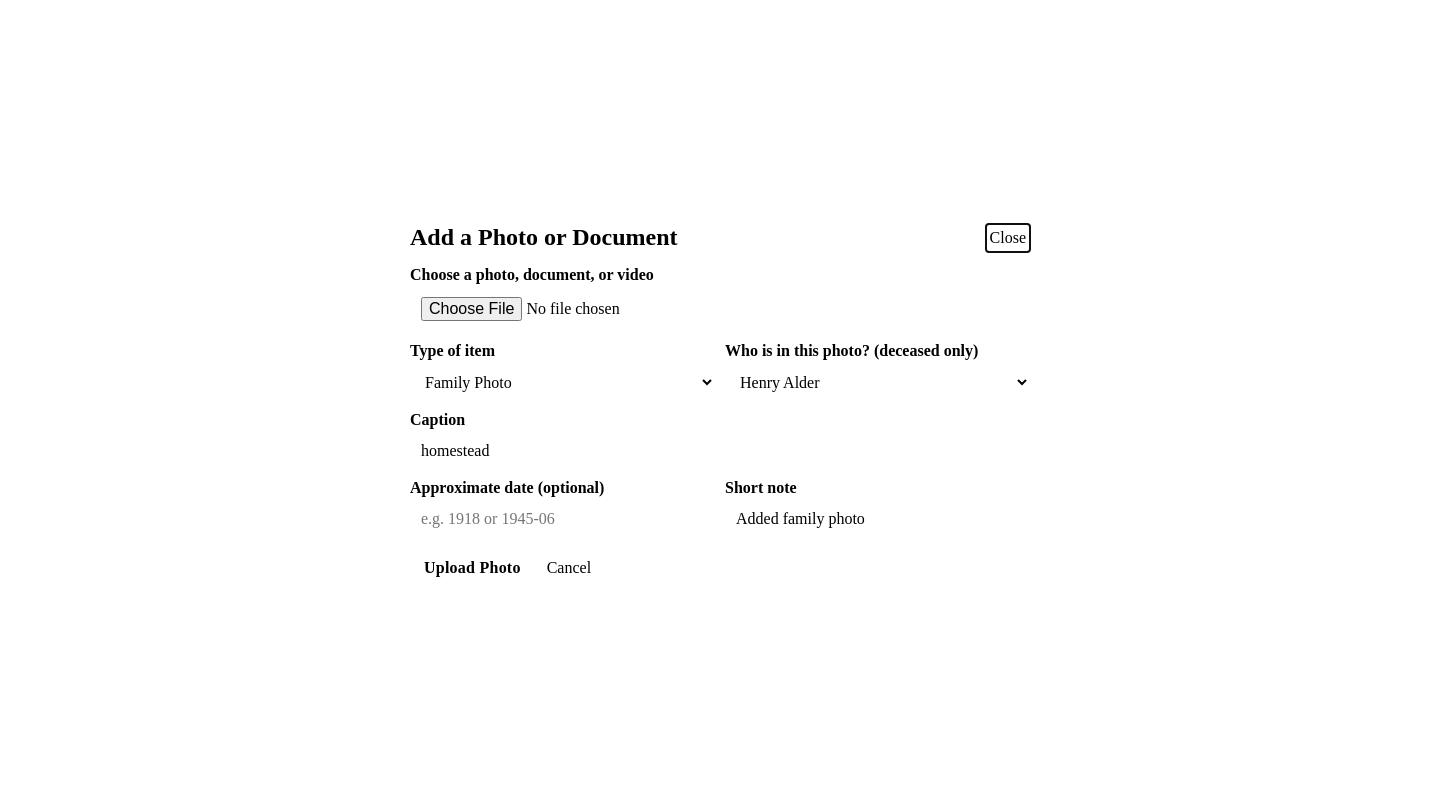
Test case: ExplorerTopBar, MediaUploaderModal, MilestoneStoryCard, TreePage canvas, and clientTelemetry behavioral flows › completes a file upload through MediaUploaderModal and selects/pivots on MilestoneStoryCard
Earlier steps of the test are not shown.
Later steps or results of the test are not shown.
Check: the file field labelled "Choose a photo, document, or video" is shown, box [410,288,1030,330]
What coordinates should you click on to do the following:
click the button "Upload Photo"
I would click on:
 (472, 568)
Its box is [410,548,535,586].
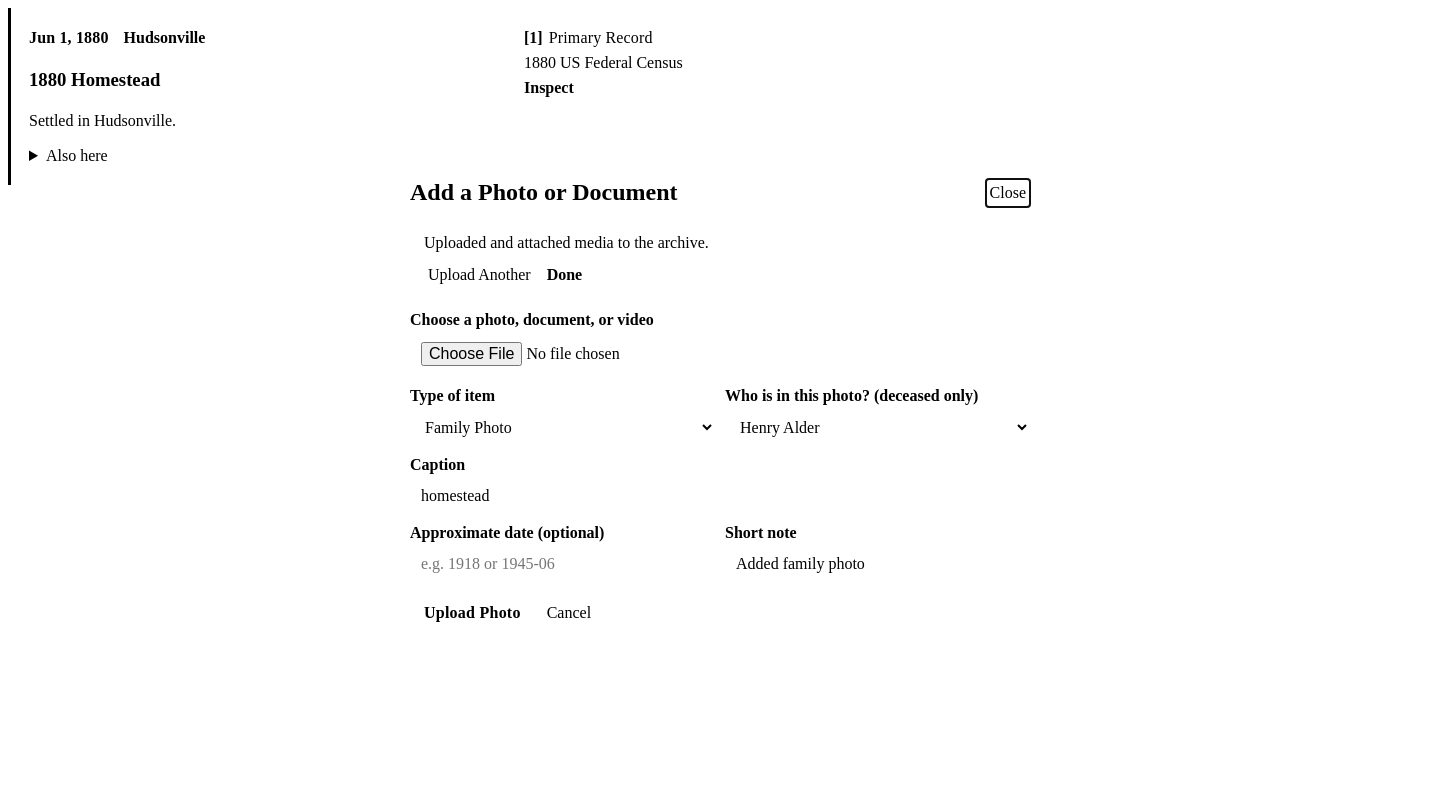
Check: the text "Uploaded and attached media to the archive." is shown, box [424,234,709,250]
